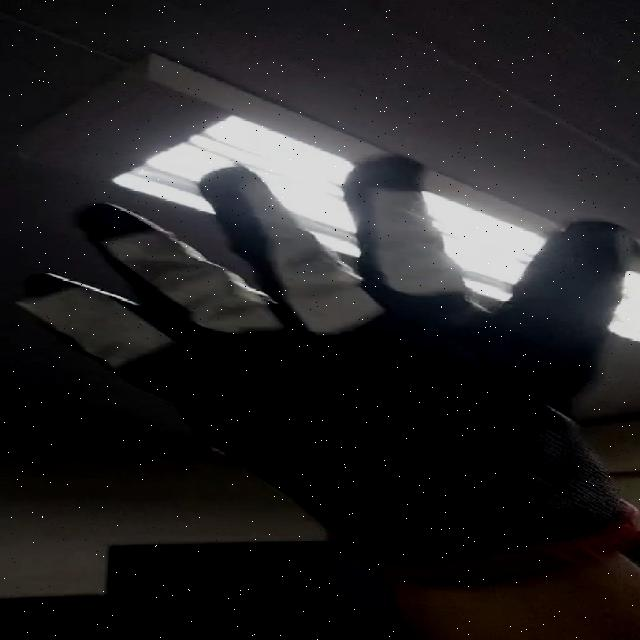Gloves: (19, 149, 640, 580)
